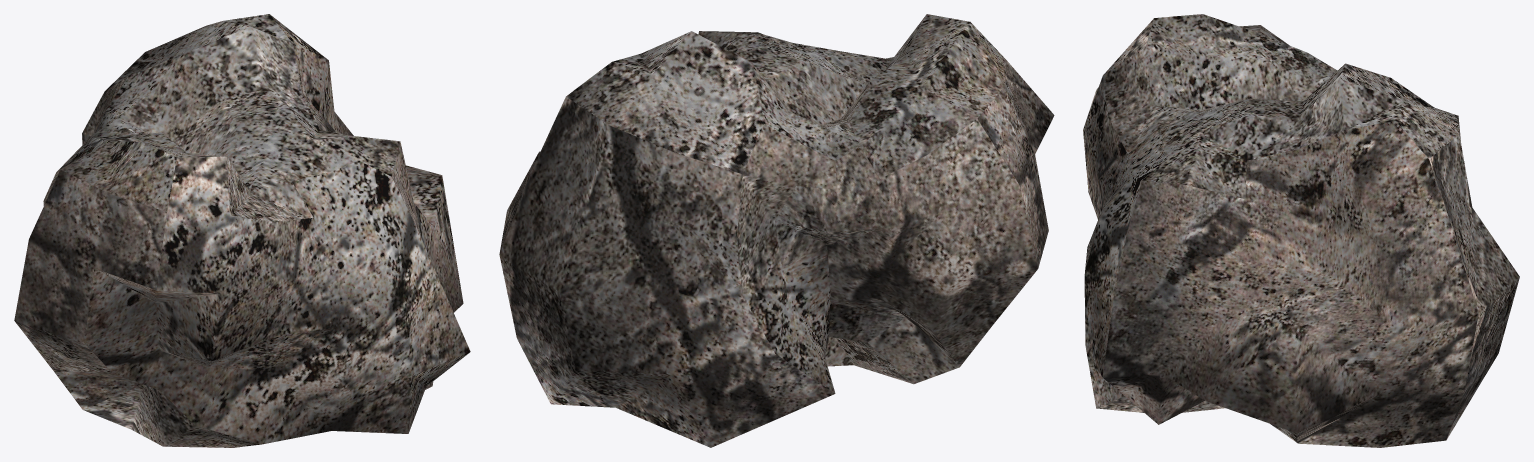
Rendered from Rock_5x5_C.FBX.
The picture shows the model from 3 angles, left to right: view 1: azimuth 30°, elevation 25°; view 2: azimuth 150°, elevation 25°; view 3: azimuth 270°, elevation 25°; orthographic projection. The views are drawn at different scales.
Visible parts, largest first — view 1: Rock_5x5_C; view 2: Rock_5x5_C; view 3: Rock_5x5_C.
Part boxes in pixels (left/top/right/bottom): Rock_5x5_C: left=14, top=14, right=470, bottom=447; Rock_5x5_C: left=499, top=14, right=1054, bottom=447; Rock_5x5_C: left=1083, top=14, right=1519, bottom=447.
Bounding box in the file's own units: 6.69 × 4.8 × 5.78.
1 material, 1 textured.
